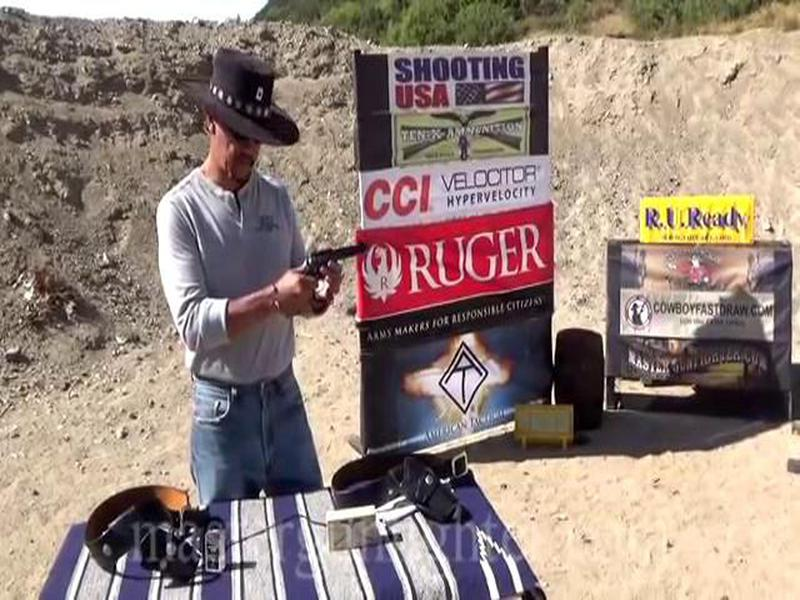Revolver: (277, 231, 381, 320)
